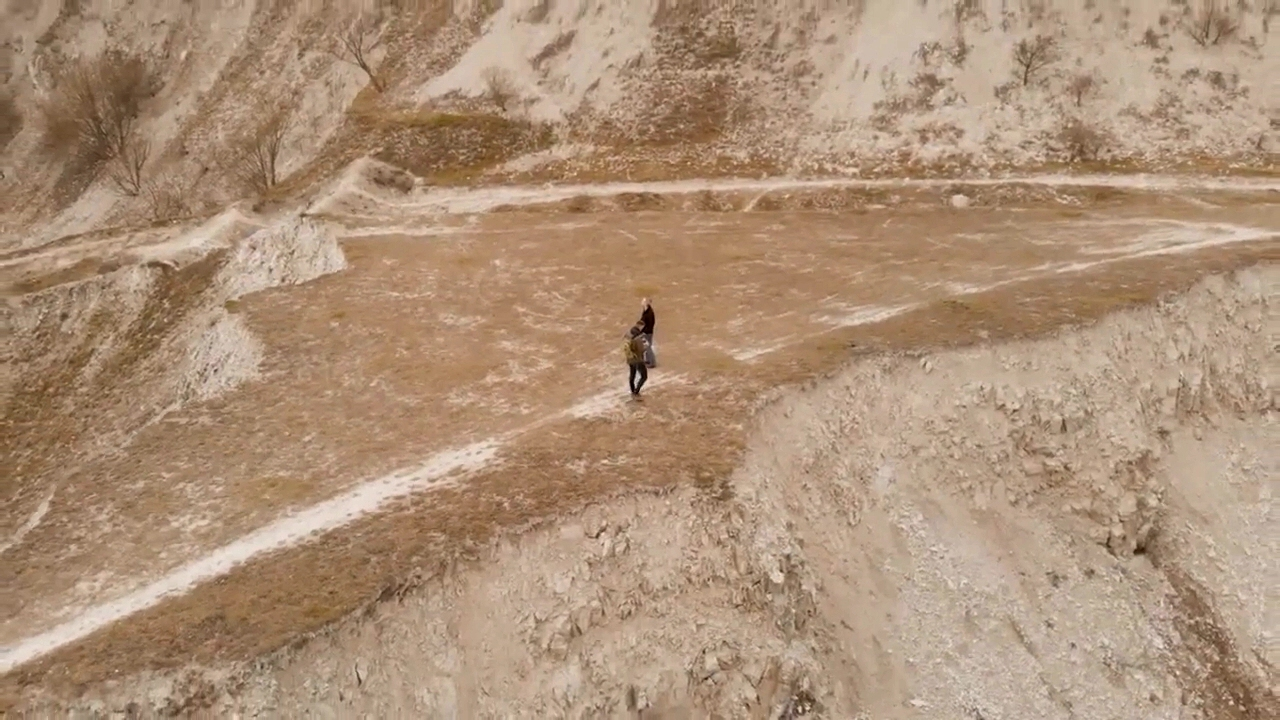insan: (622, 317, 654, 407), (634, 296, 660, 364)
